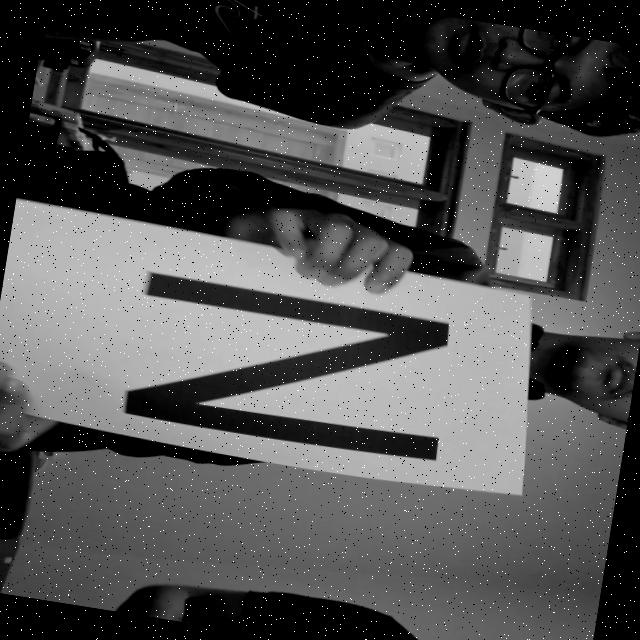n: (79, 243, 496, 505)
